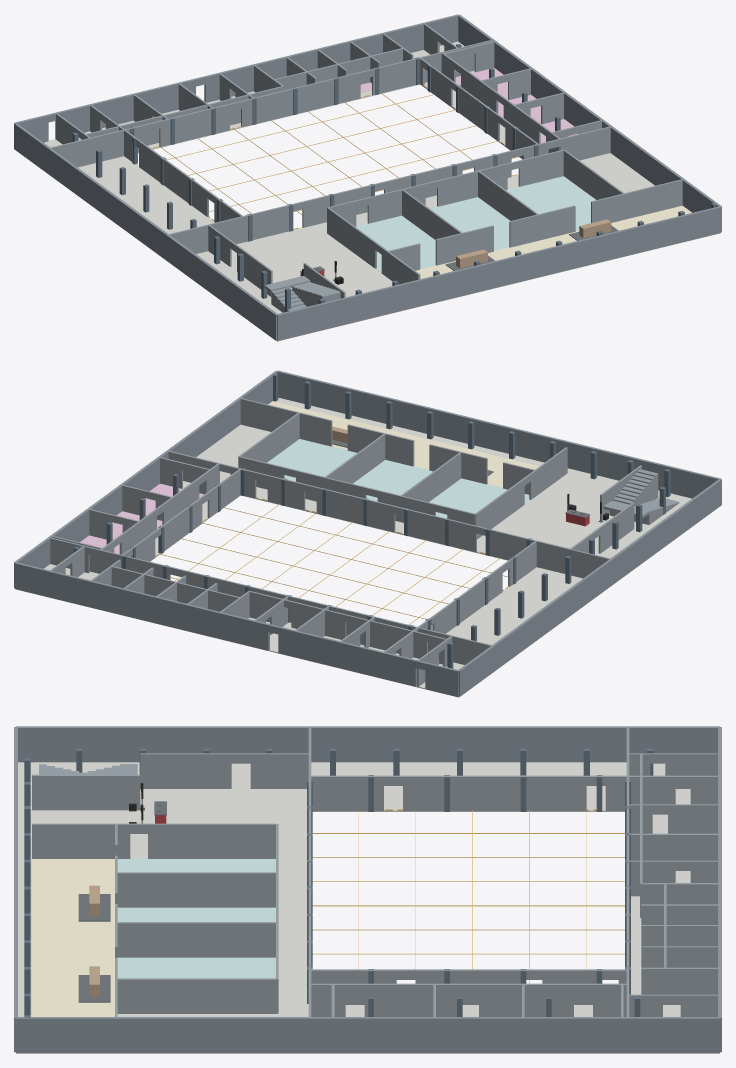
File: floor03.glb
The picture shows the model from 3 angles, top to bottom: view 1: azimuth 30°, elevation 25°; view 2: azimuth 150°, elevation 25°; view 3: azimuth 270°, elevation 25°; orthographic projection. The views are drawn at different scales.
Visible parts, largest first — view 1: Arch_Wall_F3_outer_south, Arch_Floor_ring_south, Arch_Wall_F3_outer_west, Arch_Wall_F3_outer_east, Arch_Wall_F3_outer_north.002, Arch_Floor_ring_west, Arch_Wall_F3_hall_north.002, Arch_Wall_F3_outer_north.001, Arch_Wall_F3_cinema_bar_shared.003, Arch_Room_Cinema_4, Arch_Room_Cinema_2, Arch_Room_Cinema_3 (+35 smaller); view 2: Arch_Wall_F3_outer_south, Arch_Floor_ring_south, Arch_Wall_F3_outer_west, Arch_Wall_F3_outer_north.002, Arch_Wall_F3_outer_east, Arch_Wall_F3_outer_north.001, Arch_Floor_ring_west, Arch_Room_Networking_bar, Arch_Wall_F3_cinema_bar_shared.003, Arch_Wall_F3_hall_south.002, Arch_Room_Cinema_4, Arch_Wall_F3_north_h_2 (+37 smaller); view 3: Arch_Wall_F3_outer_east, Arch_Wall_F3_outer_west, Arch_Floor_ring_south, Arch_Room_Networking_bar, Arch_Wall_F3_hall_west.001, Arch_Wall_F3_cinema4_east, Arch_Wall_F3_cinema3_east, Arch_Wall_F3_cinema2_east, Arch_Floor_ring_west, Arch_Wall_F3_cinema2_west.001, Arch_Wall_F3_stair_side, Arch_Room_Cinema_4 (+38 smaller).
Boxes of the visible parts, x1,y1,x2,y2 form: Arch_Wall_F3_outer_south: (277, 206, 721, 340); Arch_Floor_ring_south: (196, 153, 720, 341); Arch_Wall_F3_outer_west: (14, 123, 277, 340); Arch_Wall_F3_outer_east: (458, 14, 721, 231); Arch_Wall_F3_outer_north.002: (204, 14, 458, 102); Arch_Floor_ring_west: (78, 156, 214, 233); Arch_Wall_F3_hall_north.002: (241, 72, 360, 127); Arch_Wall_F3_outer_north.001: (57, 78, 195, 132); Arch_Wall_F3_cinema_bar_shared.003: (591, 179, 682, 222); Arch_Room_Cinema_4: (506, 176, 595, 230); Arch_Room_Cinema_2: (356, 215, 435, 272); Arch_Room_Cinema_3: (430, 197, 509, 250); Arch_Wall_F3_outer_south: (277, 370, 720, 498); Arch_Floor_ring_south: (196, 397, 691, 560); Arch_Wall_F3_outer_west: (458, 479, 721, 696); Arch_Wall_F3_outer_north.002: (14, 562, 269, 650); Arch_Wall_F3_outer_east: (14, 370, 277, 587); Arch_Wall_F3_outer_north.001: (278, 626, 416, 686); Arch_Floor_ring_west: (446, 567, 582, 644); Arch_Room_Networking_bar: (268, 401, 539, 487); Arch_Wall_F3_cinema_bar_shared.003: (240, 398, 332, 446); Arch_Wall_F3_hall_south.002: (316, 487, 395, 532); Arch_Room_Cinema_4: (267, 439, 356, 481); Arch_Wall_F3_north_h_2: (111, 566, 240, 611); Arch_Wall_F3_outer_east: (16, 1017, 719, 1053); Arch_Wall_F3_outer_west: (16, 726, 719, 762); Arch_Floor_ring_south: (16, 762, 309, 1053); Arch_Room_Networking_bar: (32, 859, 114, 1016); Arch_Wall_F3_hall_west.001: (403, 775, 586, 811); Arch_Wall_F3_cinema4_east: (117, 978, 277, 1013); Arch_Wall_F3_cinema3_east: (116, 922, 277, 957); Arch_Wall_F3_cinema2_east: (117, 872, 277, 907); Arch_Floor_ring_west: (311, 762, 626, 811); Arch_Wall_F3_cinema2_west.001: (148, 823, 277, 858); Arch_Wall_F3_stair_side: (32, 774, 140, 810); Arch_Room_Cinema_4: (117, 957, 275, 978).
Size of the model in its own units: 54.57 by 3.12 by 55.82.
